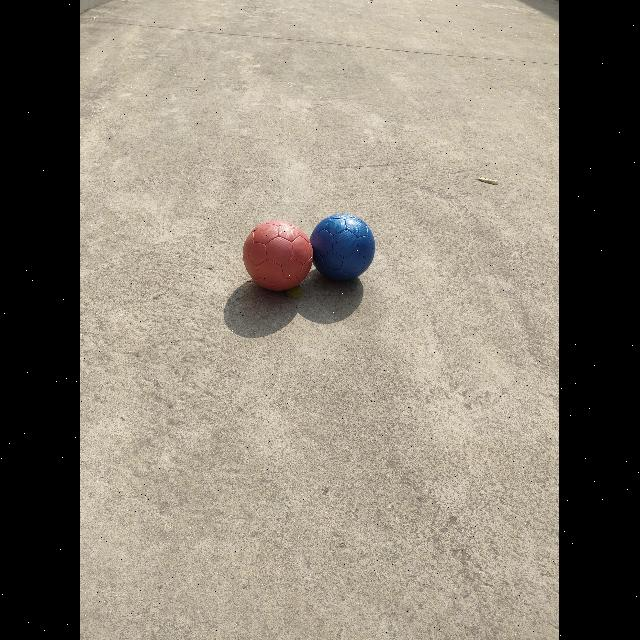B: (309, 215, 376, 282)
R: (243, 222, 314, 291)
